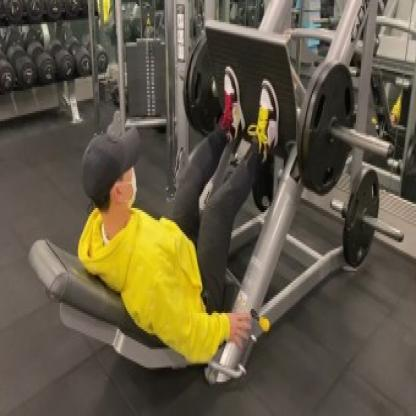leg press: (24, 0, 416, 394)
